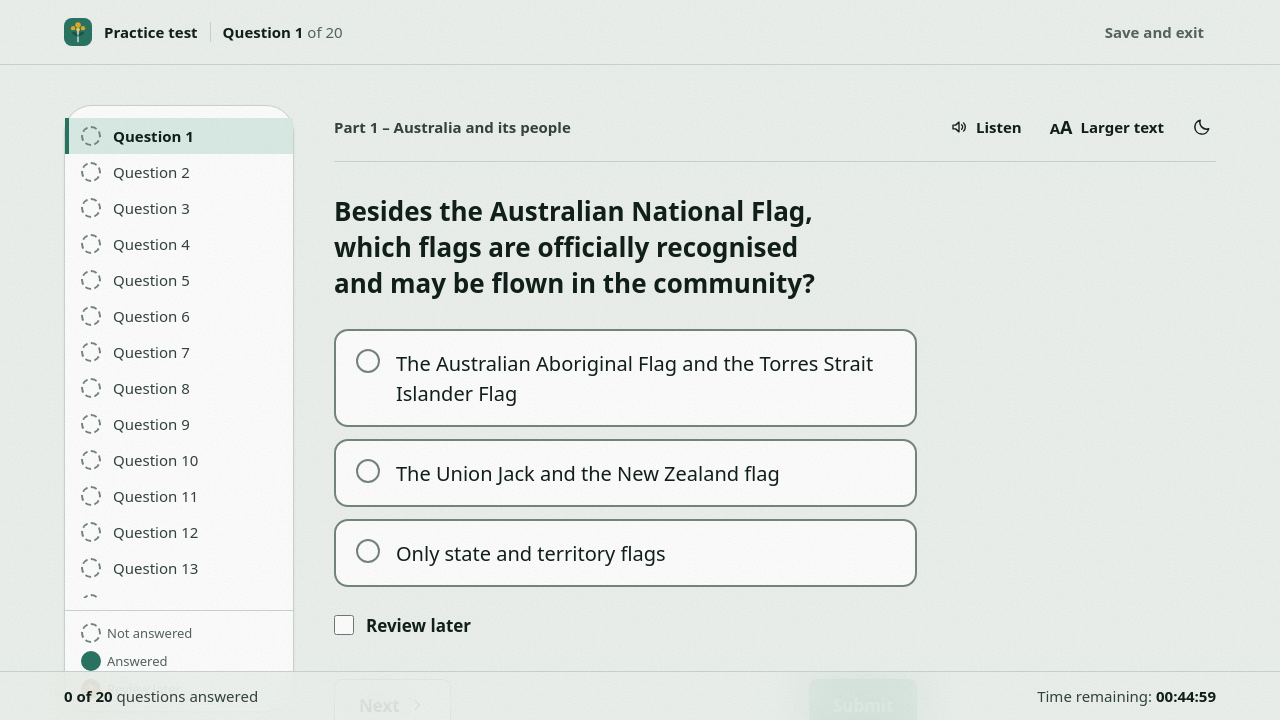
Test: ExamScreen › marks questions in the list as answered or review later
The image size is (1280, 720).
Click the radio button labelled "The Union Jack and the New Zealand flag".
click(626, 473)  # box 334,439 -> 917,507
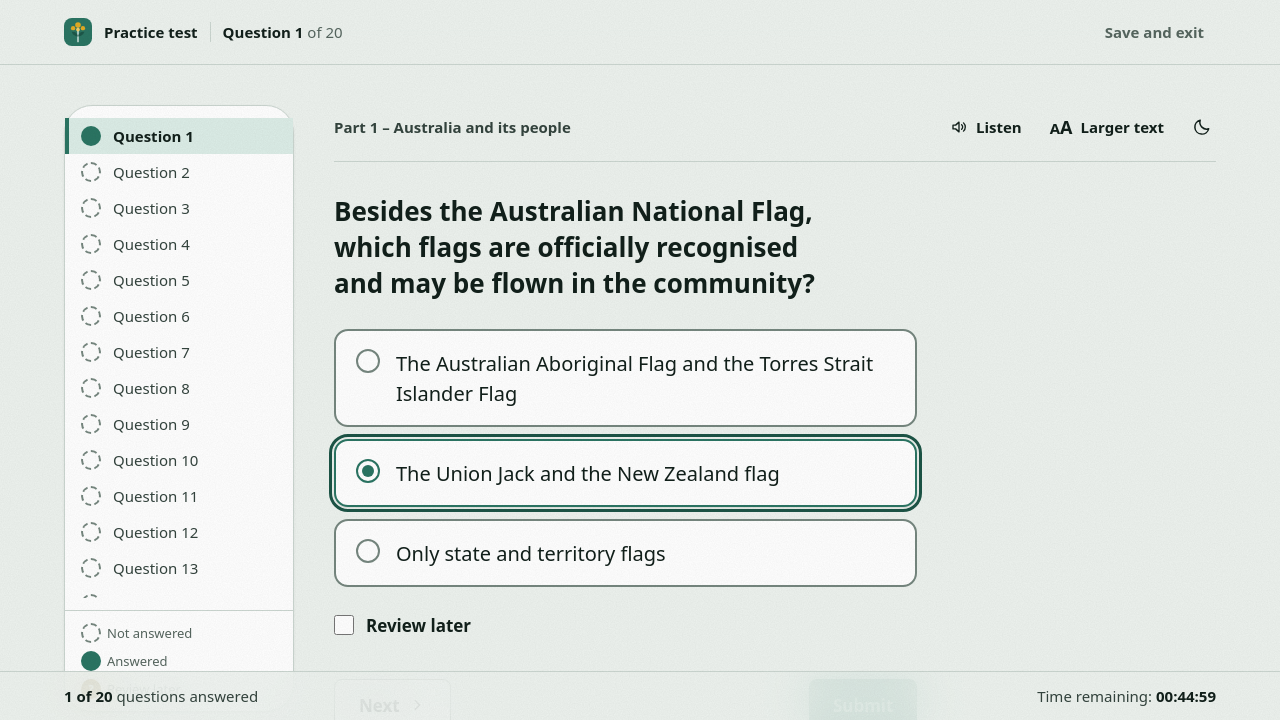
Click the checkbox labelled "Review later".
click(344, 625)  # box 334,615 -> 354,635
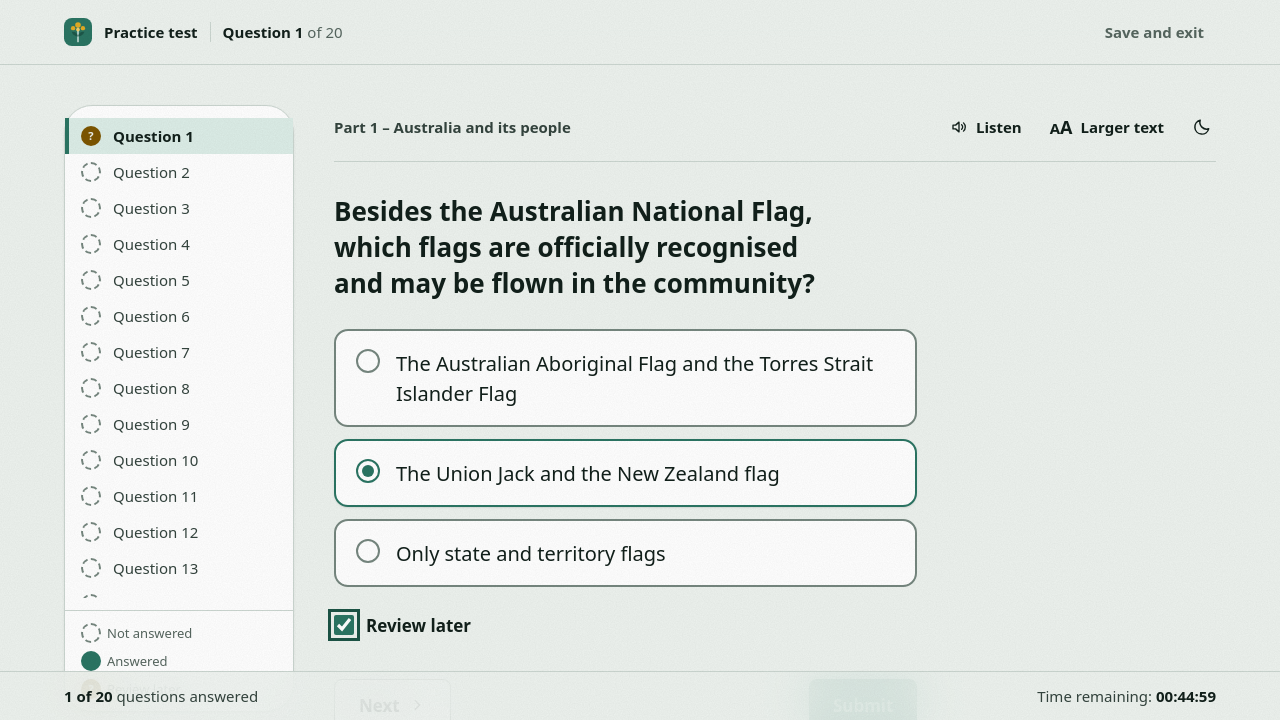
Expected: the button with aria-label "Question 2, not answered" is shown, 65,154 -> 293,190
Expected: the button with aria-label "Question 1, answered, marked review later" is shown, 65,118 -> 293,154
